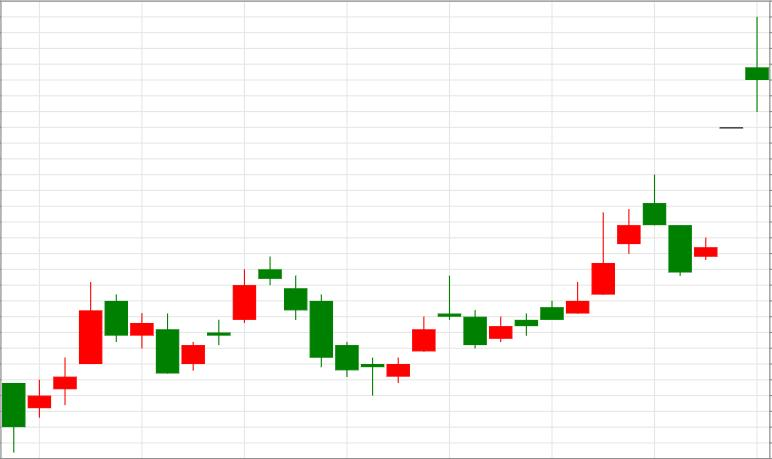evening_star_fall: (157, 257, 307, 375)
shooting_star_fall: (489, 214, 615, 343)
